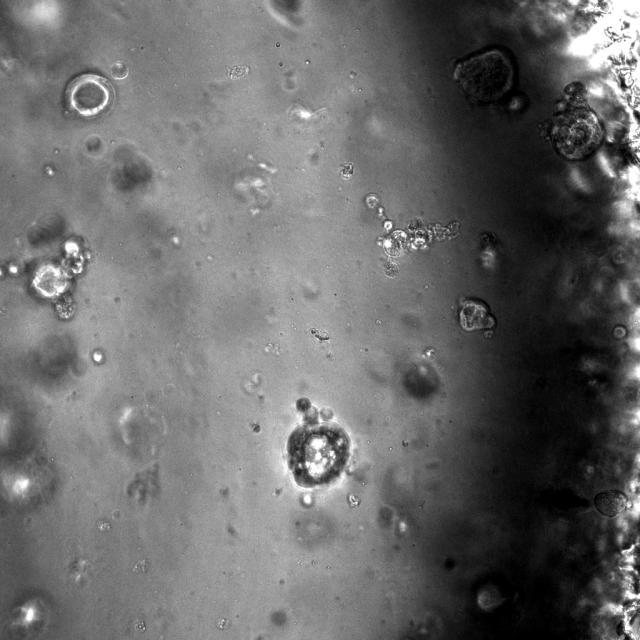organoid: (0, 214, 90, 319), (364, 193, 459, 277), (285, 396, 352, 508), (454, 45, 528, 113), (547, 81, 603, 161), (64, 73, 114, 118), (111, 144, 153, 193), (458, 298, 496, 338), (403, 363, 438, 398), (594, 490, 628, 517), (479, 232, 498, 270), (84, 135, 105, 157), (227, 65, 249, 79), (111, 61, 128, 79), (340, 161, 353, 180), (612, 324, 628, 339)
